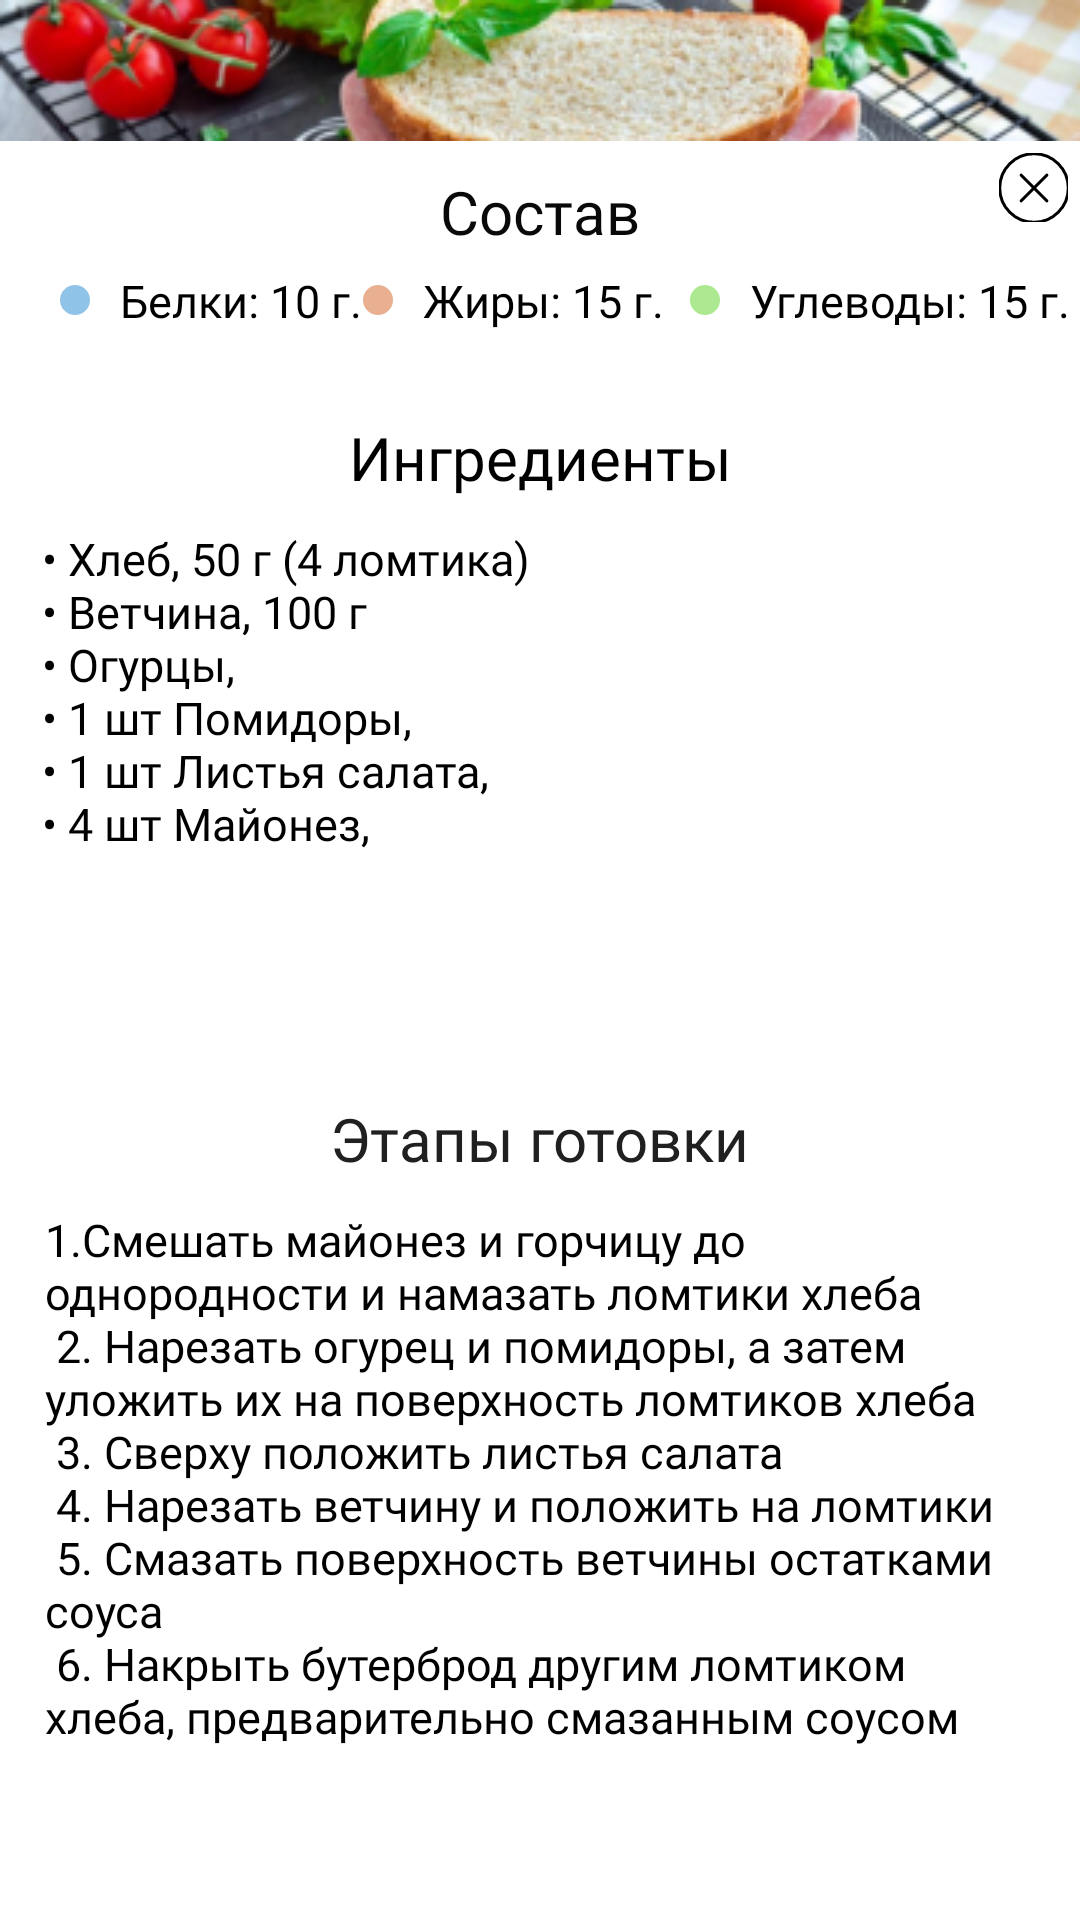

Where icons sit on this 1080*1920 app screen, as detection(x1, y1, x2, y2):
exit krest: detection(999, 153, 1068, 222)
